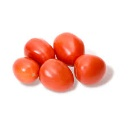tomato: (39, 59, 75, 92), (53, 32, 86, 65), (73, 56, 106, 85), (25, 37, 56, 61), (13, 58, 39, 83)
